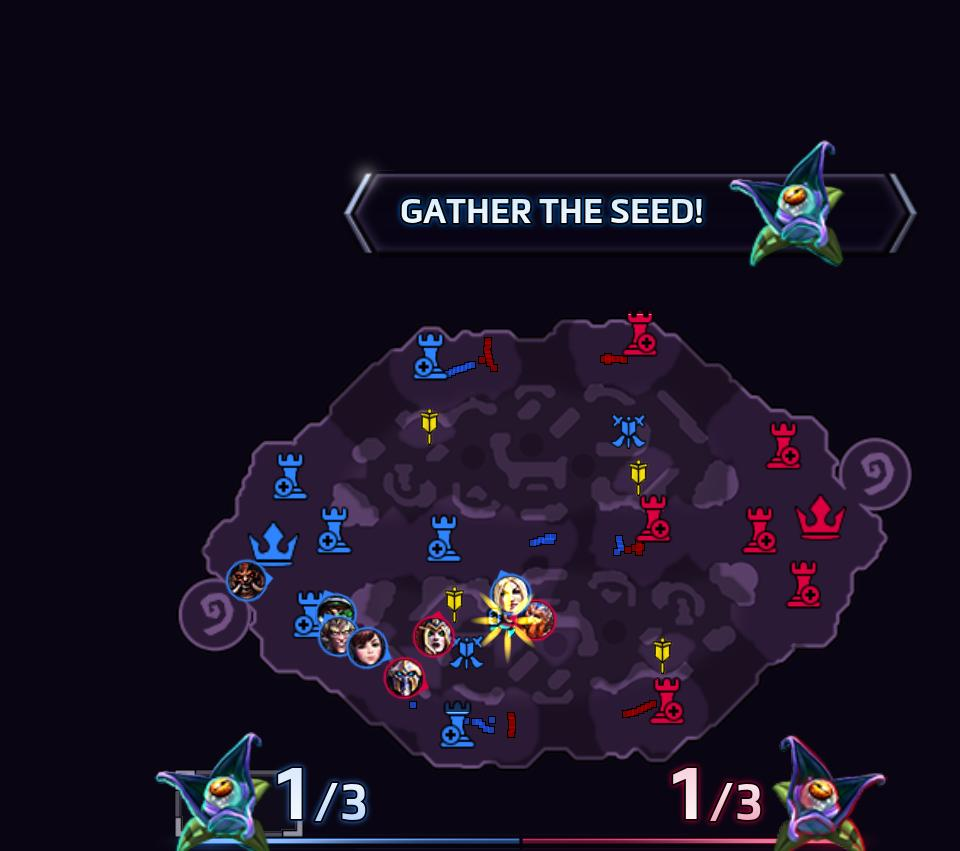blue player: (222, 553, 276, 603), (484, 569, 538, 618), (344, 626, 394, 671), (311, 589, 355, 627), (315, 618, 362, 653)
